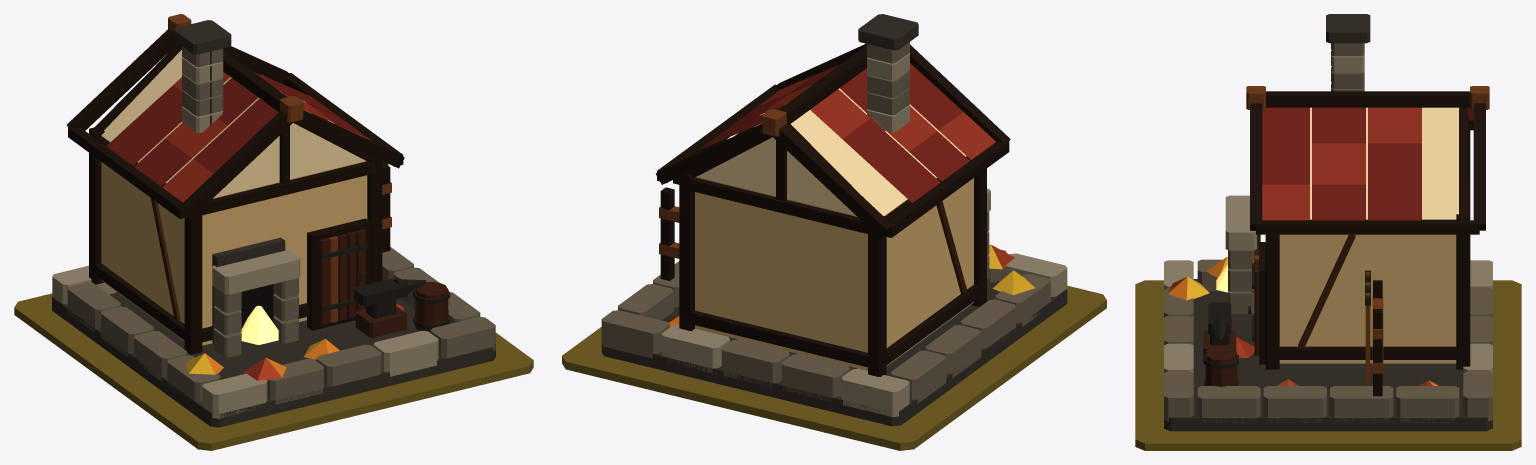
Rendered from forge_t2.glb.
3 renders of one model, left to right at view 1: azimuth 30°, elevation 25°; view 2: azimuth 150°, elevation 25°; view 3: azimuth 270°, elevation 25°, orthographic. The views are drawn at different scales.
Visible parts, largest first — view 1: MMR | forge | T02 Architecture.001, MMR | forge | Tier 02 Ground.001, MMR | forge | T02 Autumn Dressing.001, MMR | forge | T02 Flame Glow.001; view 2: MMR | forge | T02 Architecture.001, MMR | forge | Tier 02 Ground.001, MMR | forge | T02 Autumn Dressing.001; view 3: MMR | forge | T02 Architecture.001, MMR | forge | Tier 02 Ground.001, MMR | forge | T02 Autumn Dressing.001.
Boxes of the visible parts, x1,y1,x2,y2 form: MMR | forge | T02 Architecture.001: (52,14,495,427); MMR | forge | Tier 02 Ground.001: (14,293,533,450); MMR | forge | T02 Autumn Dressing.001: (185,304,403,380); MMR | forge | T02 Flame Glow.001: (241,305,278,345); MMR | forge | T02 Architecture.001: (601,14,1067,426); MMR | forge | Tier 02 Ground.001: (562,285,1106,450); MMR | forge | T02 Autumn Dressing.001: (667,244,1034,326); MMR | forge | T02 Architecture.001: (1164,14,1492,431); MMR | forge | Tier 02 Ground.001: (1135,280,1521,450); MMR | forge | T02 Autumn Dressing.001: (1167,256,1438,385).
Size of the model in its own units: 2.35 by 2.12 by 2.35.
Materials: 2 (1 with a texture image).
